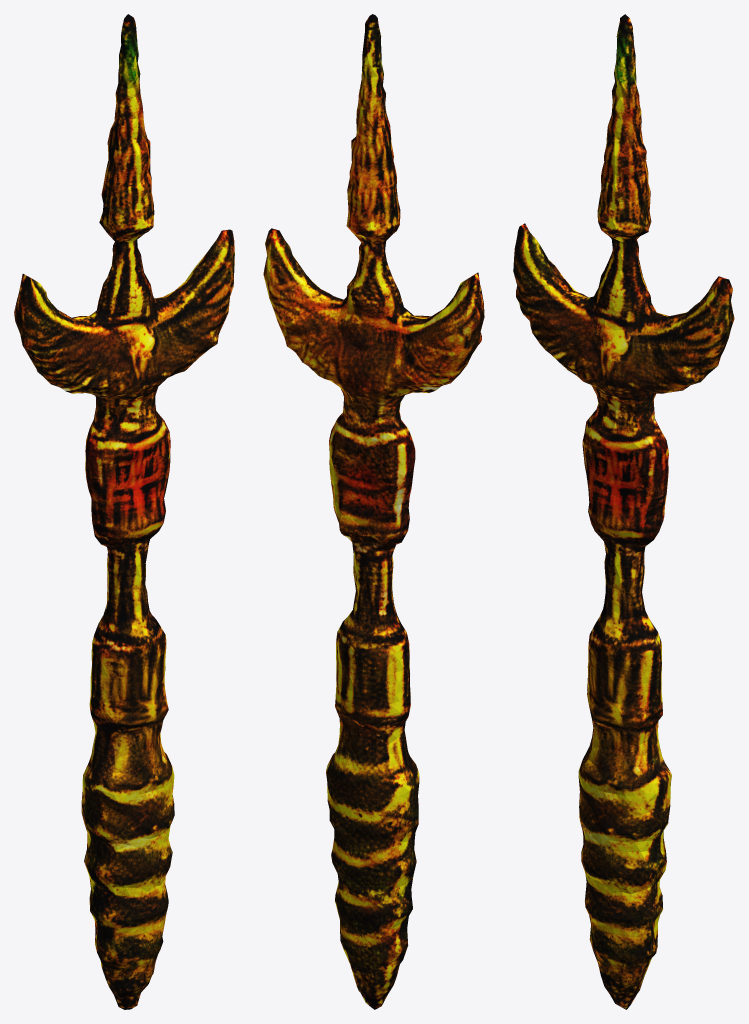
Rendered from Something.glb.
3 renders of one model, left to right at view 1: azimuth 30°, elevation 25°; view 2: azimuth 150°, elevation 25°; view 3: azimuth 330°, elevation 25°, orthographic.
Visible parts, largest first — view 1: mesh.obj; view 2: mesh.obj; view 3: mesh.obj.
Part boxes in pixels (x1,y1,x2,y2): mesh.obj: [14, 14, 234, 1009]; mesh.obj: [263, 14, 484, 1009]; mesh.obj: [513, 14, 734, 1009].
Bounding box in the file's own units: 0.1995 × 0.8778 × 0.0636.
1 material, 1 textured.
